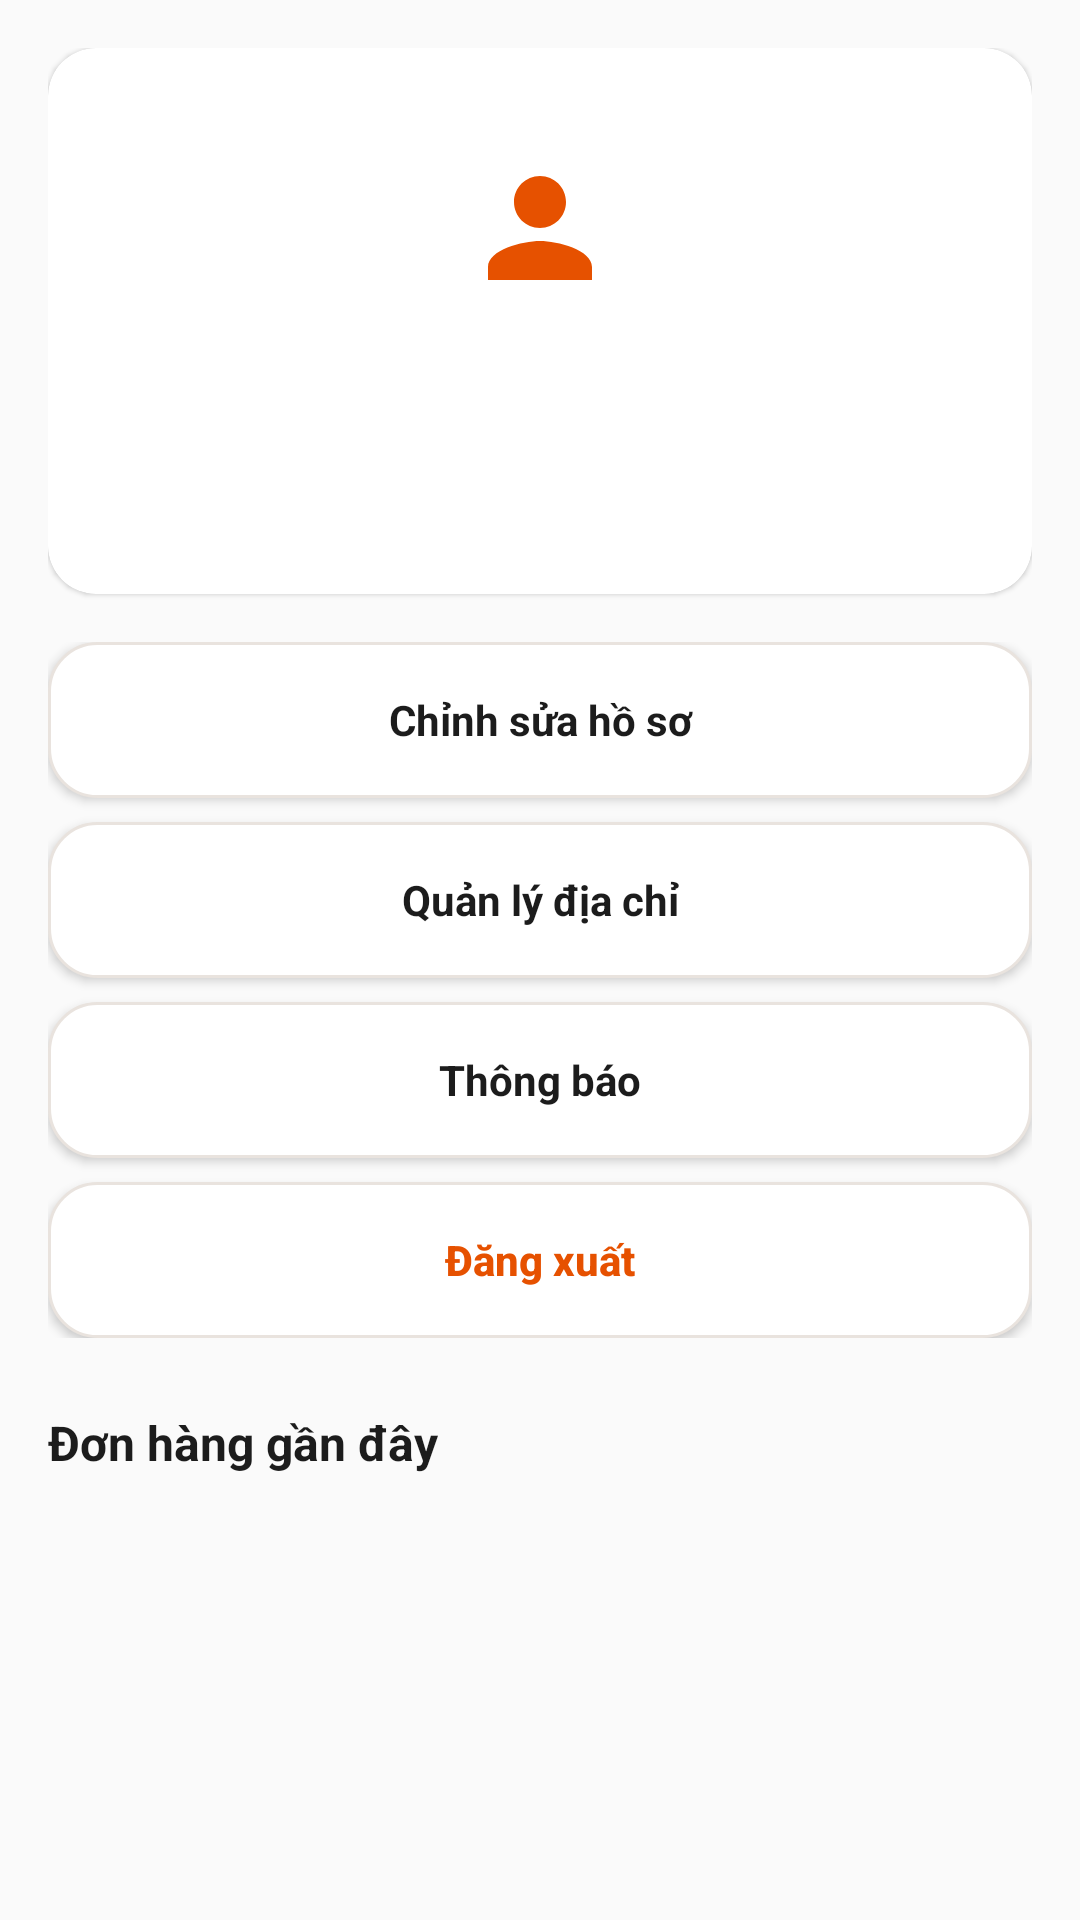

Screen size 1080w x 1920h. Icon name, then its box in pixels as (x1, y1, x2, y2):
profile: (488, 176, 592, 280)
